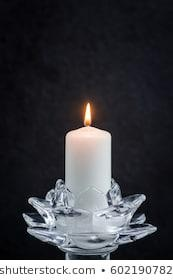fire: (80, 100, 93, 128)
